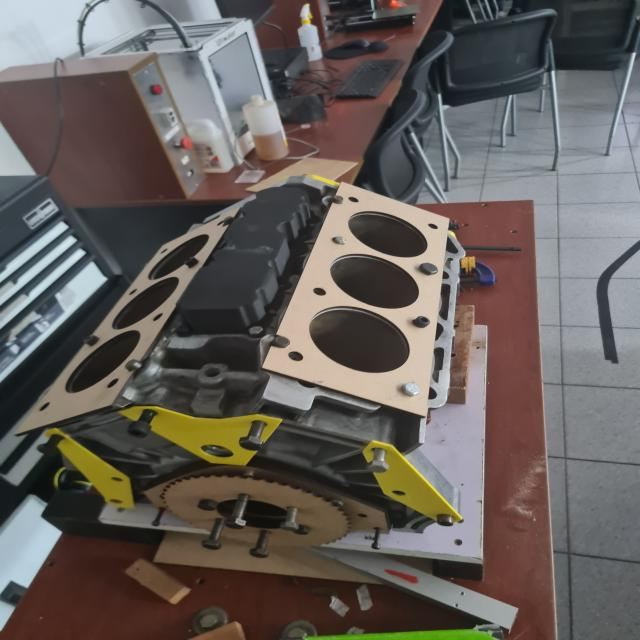vista1: (12, 209, 238, 434), (261, 182, 449, 417)
